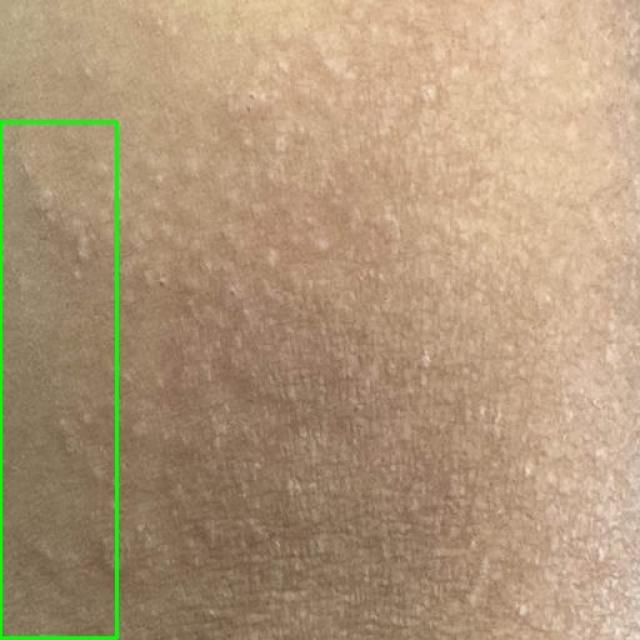Contact Dermatitis: (0, 121, 118, 639)
